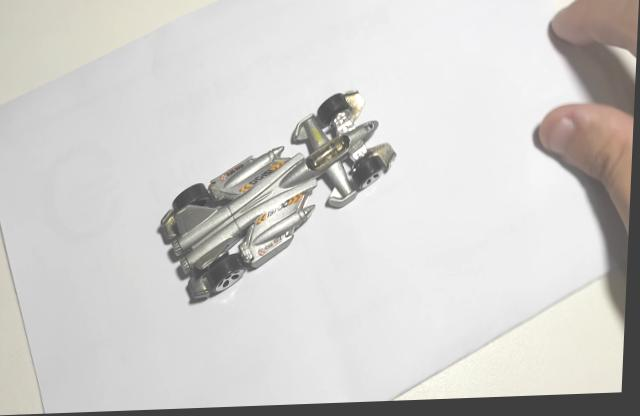05_DC121: (159, 93, 399, 307)
